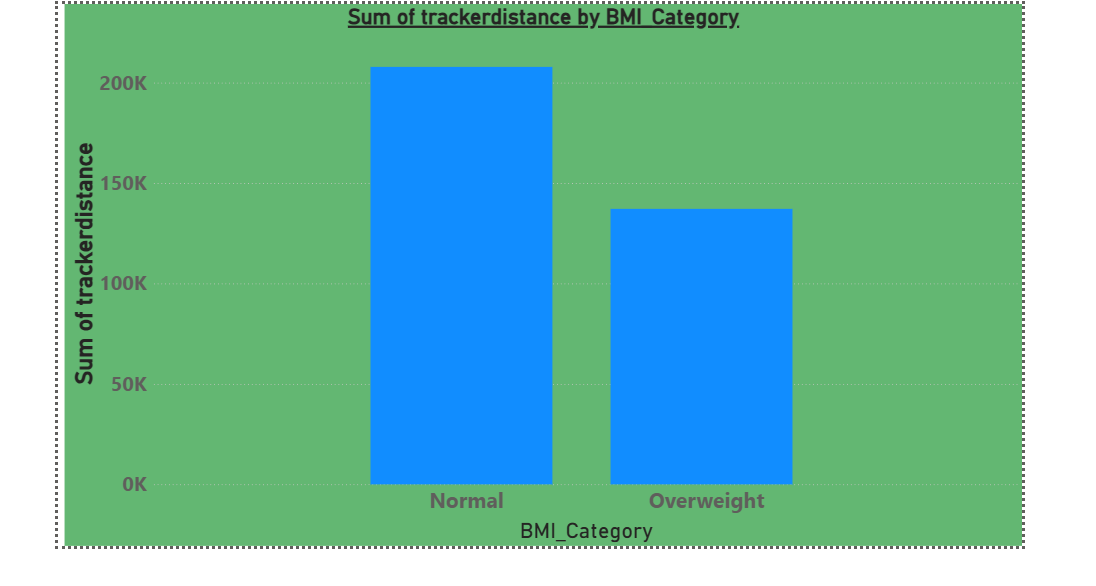

The page's visual inventory and layout, read from the dashboard file:
{"tool":"powerbi","page":{"name":"Page 8","canvas":[1280,720],"ordinal":7},"visuals":[{"type":"clusteredColumnChart","fields":{"Category":["public merged_table.BMI_Category"],"Y":["Sum(public merged_table.trackerdistance)"]},"box":[8.7,0,1271.7,719.6],"z":0}]}

Visuals, with their boxes on the page's 1280x720 design canvas (x1, y1, x2, y2). These are canvas units, not pixel positions in the 1096x586 screenshot, which may show the page scaled, cropped or inside an application window:
clusteredColumnChart - public merged_table.BMI_Category x Sum(public merged_table.trackerdistance): BBox(9, 0, 1280, 720)
